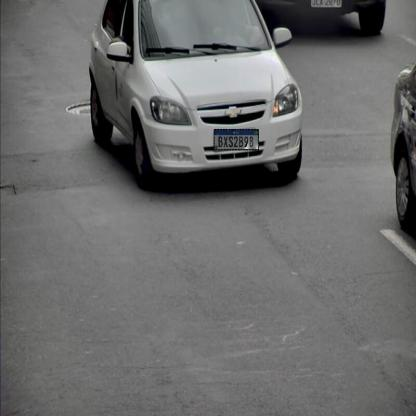PlacaM: (214, 129, 259, 150)
